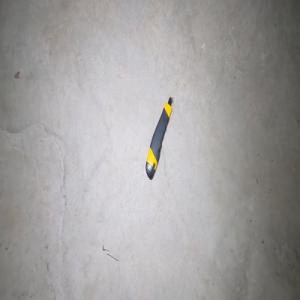Cutter: (145, 96, 173, 180)
